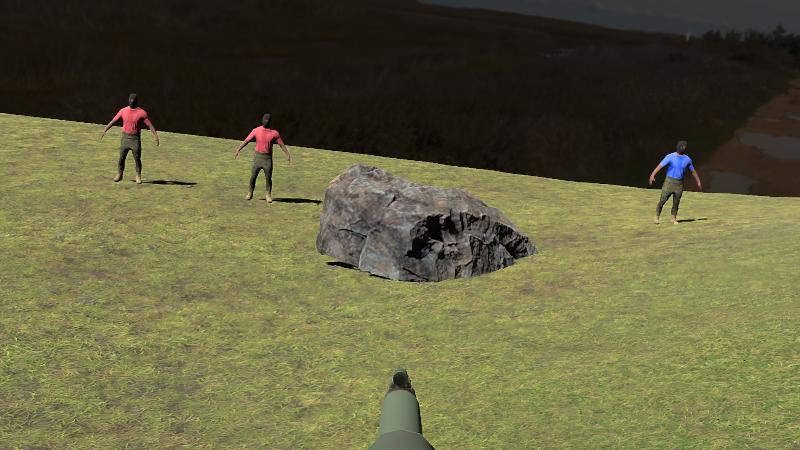Human: (101, 91, 159, 184), (235, 112, 290, 203), (649, 139, 701, 226)
